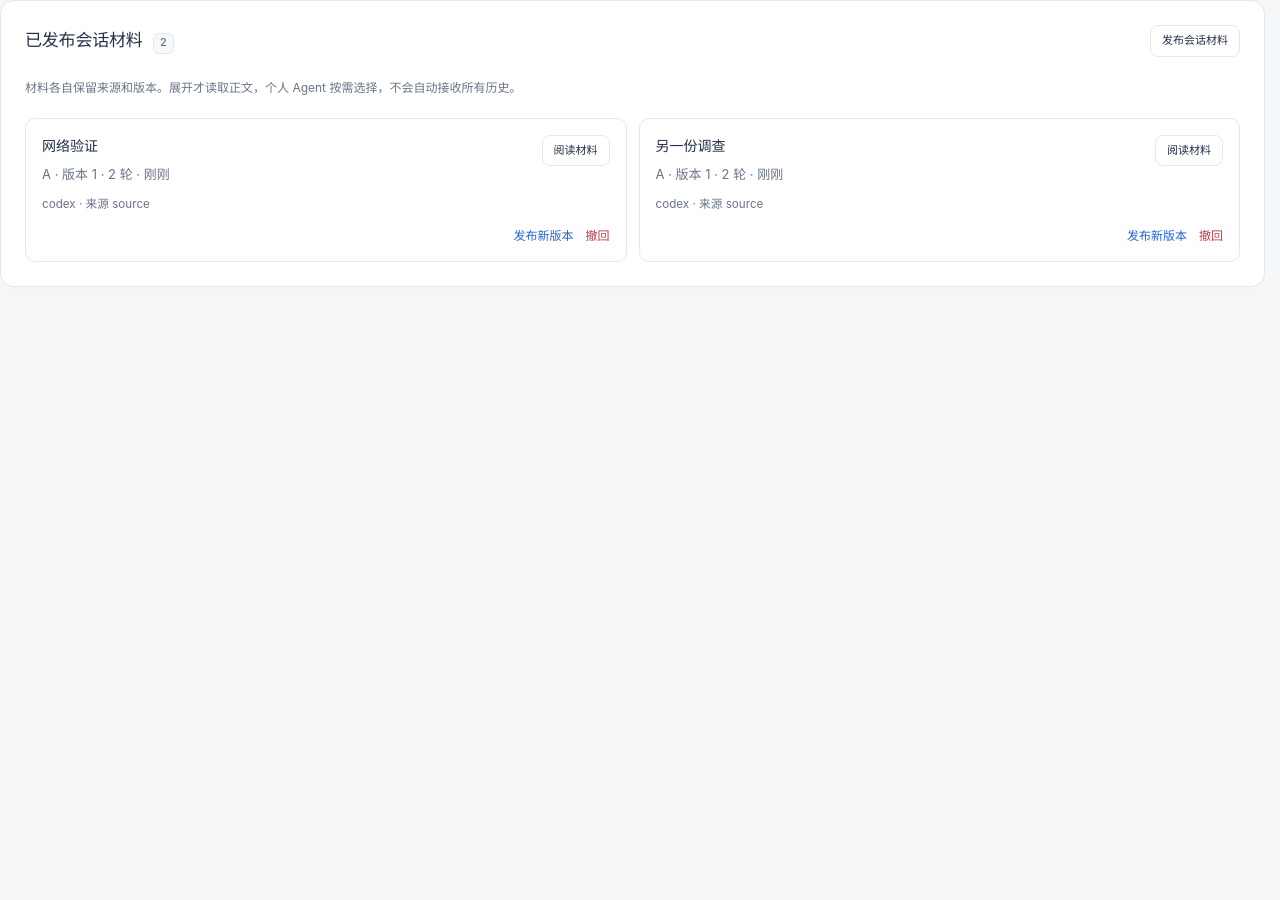
Test: reads inside the selected card with one title and collapse action, and switches cards on demand
The width and height of the screenshot is (1280, 900).
Click the button "阅读材料" in the row of "网络验证": {"x": 576, "y": 150} top-left (542, 135), bottom-right (610, 166)
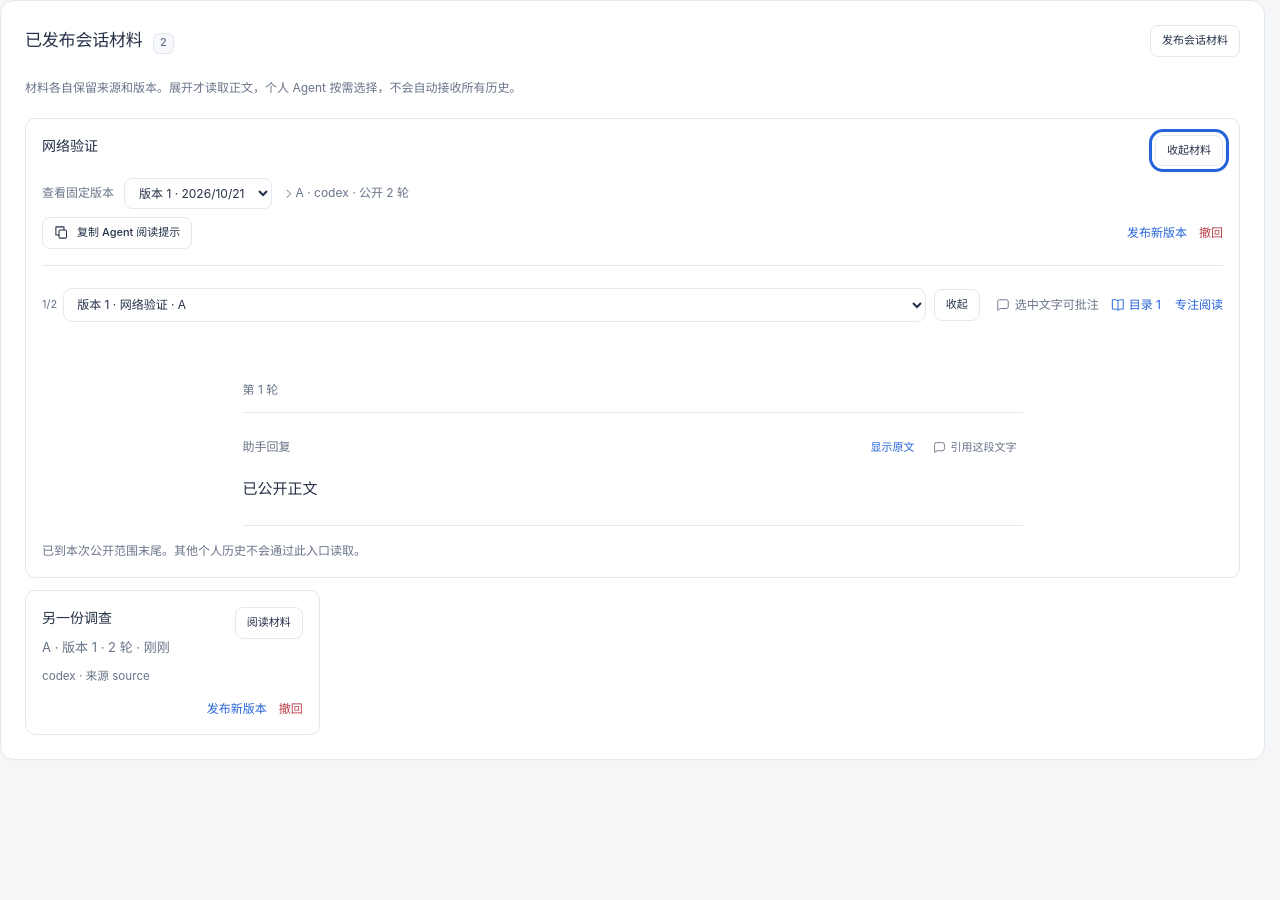
Expected: the text "已公开正文" is shown, top-left (242, 479), bottom-right (318, 498)
Expected: the button "收起材料" is expanded, top-left (1155, 135), bottom-right (1223, 166)
Expected: the dropdown labelled "查看固定版本" is shown, top-left (124, 178), bottom-right (272, 209)
Select "版本 1 · 另一份调查 · A" in the dropdown named "切换已发布材料": {"x": 494, "y": 305} top-left (63, 288), bottom-right (926, 322)
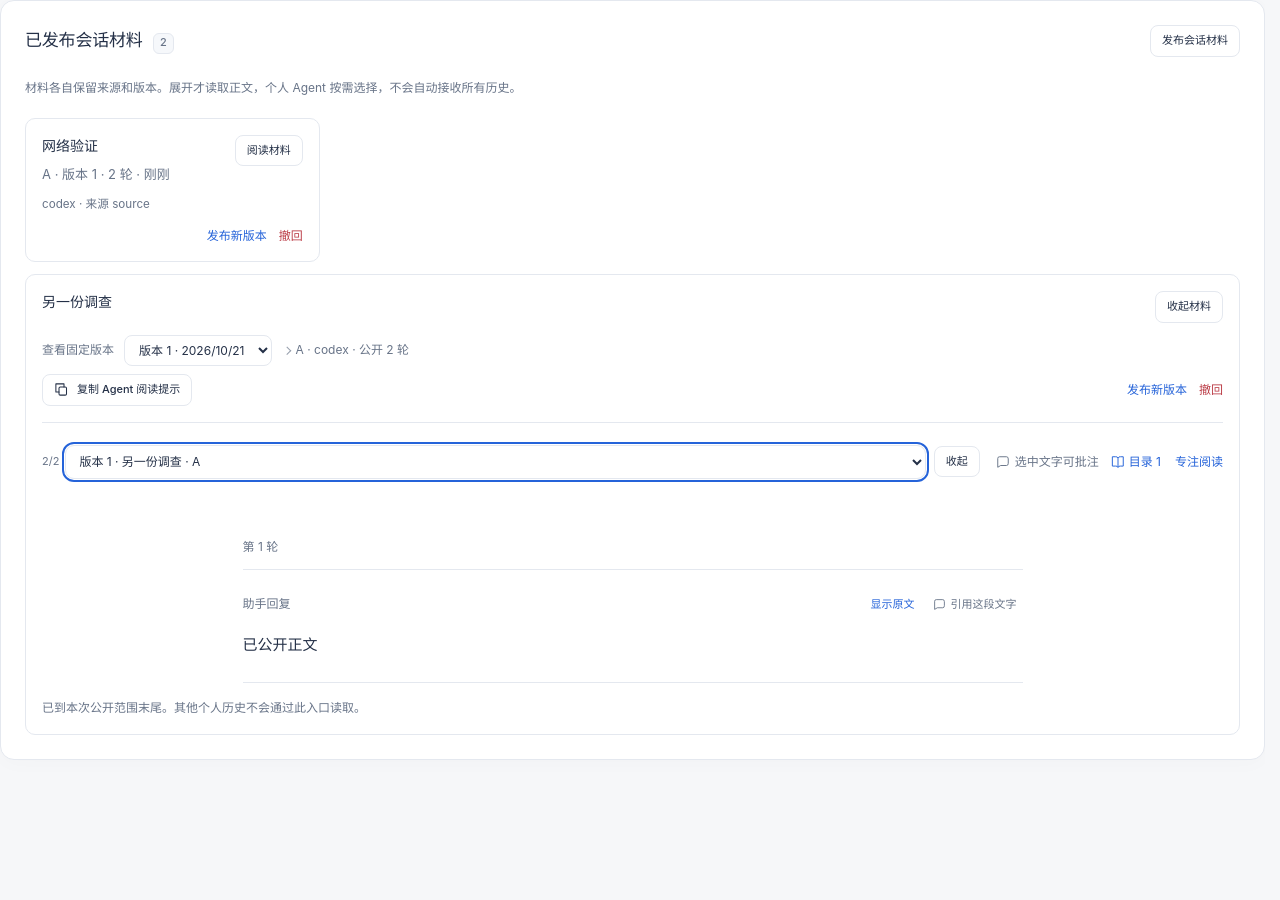
Expected: the text "已公开正文" is shown, top-left (242, 636), bottom-right (318, 654)
Expected: the button "阅读材料" is collapsed, top-left (235, 135), bottom-right (303, 166)
Expected: the dropdown named "切换已发布材料" shows "版本 1 · 另一份调查 · A", top-left (65, 444), bottom-right (926, 478)
Click the button with aria-label "收起当前材料": {"x": 957, "y": 462} top-left (934, 446), bottom-right (980, 477)
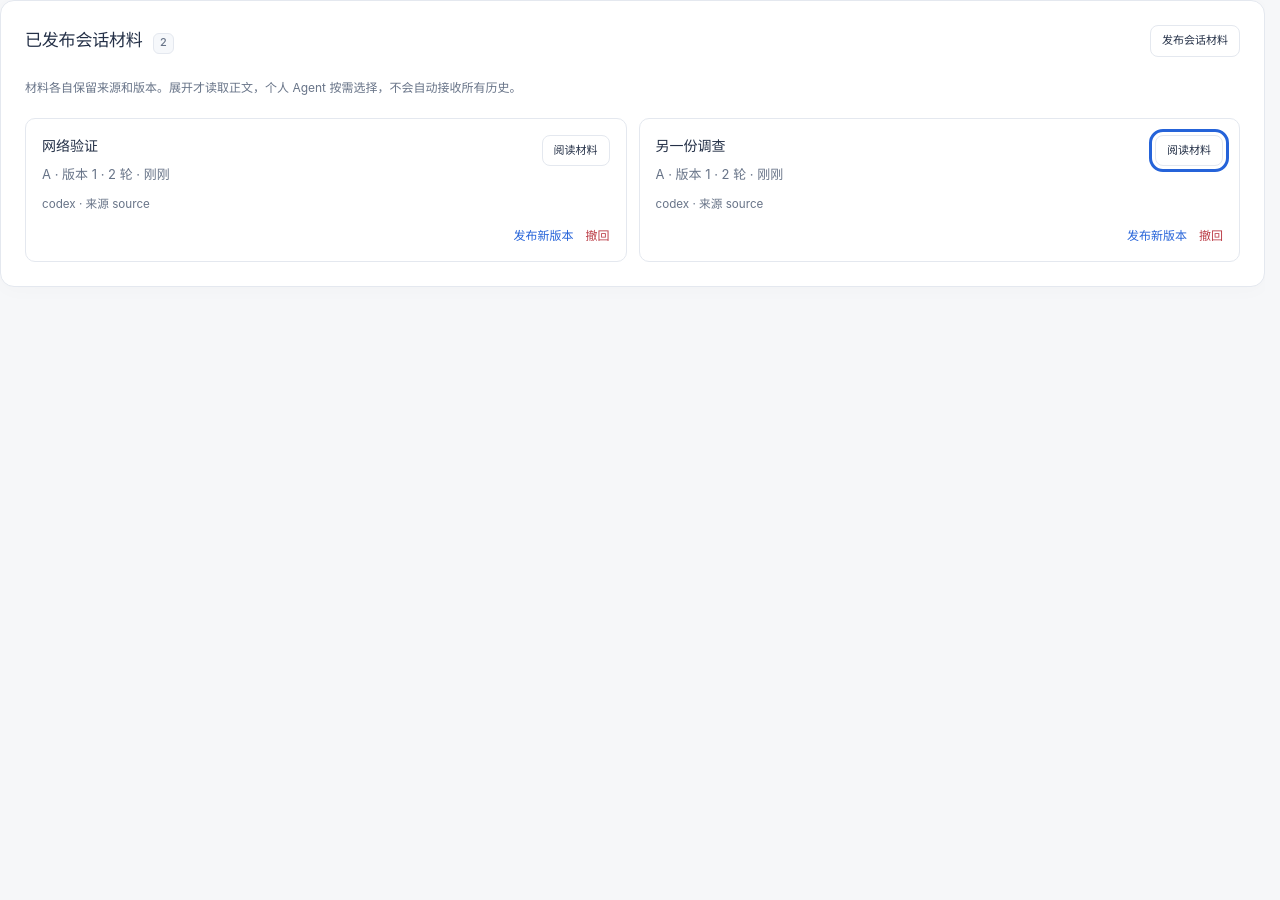
Expected: the button "收起材料" is gone
Expected: the text "已公开正文" is gone
Expected: the number of buttons "阅读材料" is 2, top-left (542, 135), bottom-right (610, 166); top-left (1155, 135), bottom-right (1223, 166)
